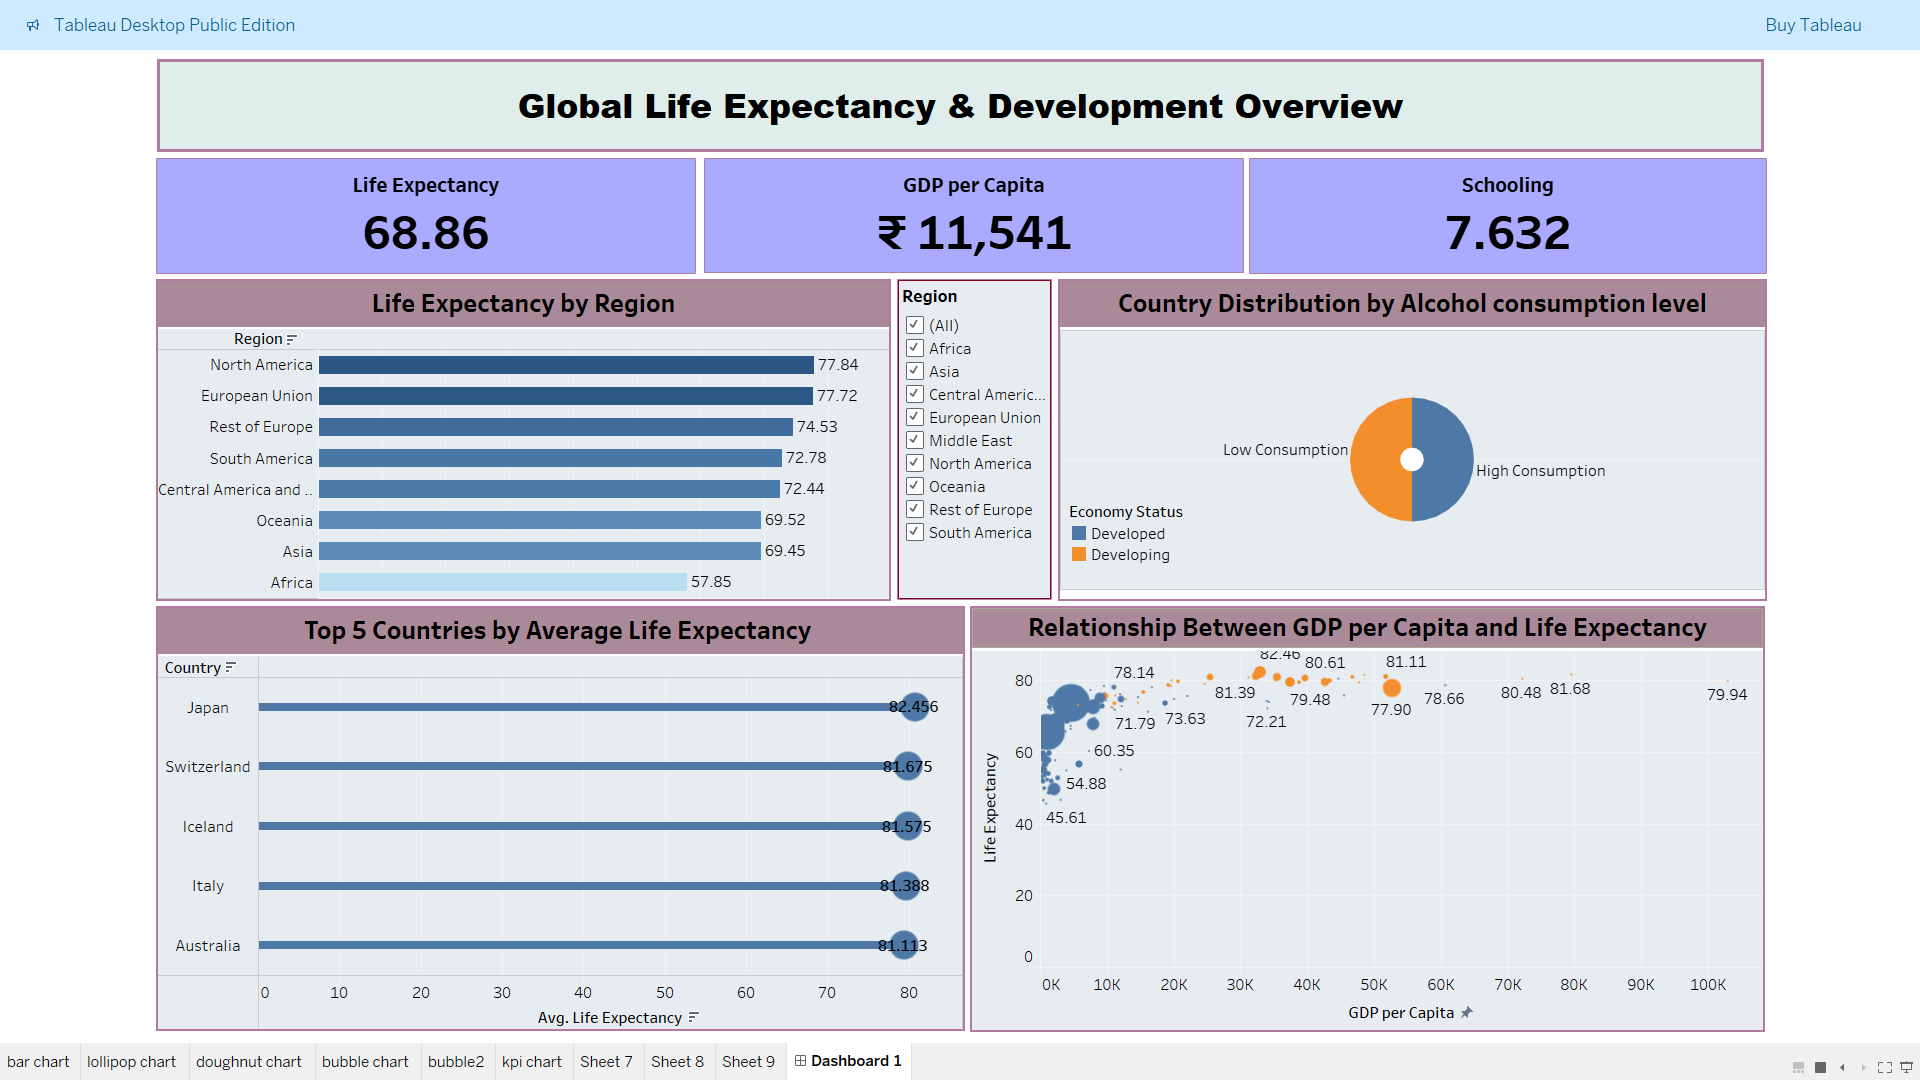

The dashboard page shown, as its layout file describes it:
{"tool":"tableau","page":{"name":"Dashboard 1","canvas":[1000,1000],"units":"permille","ordinal":0},"visuals":[{"type":"text","box":[4.3,8.7,992,93.5]},{"type":"worksheet","title":"Sheet 7","mark":"Automatic","box":[3.7,108.5,333.3,117.2]},{"type":"worksheet","title":"Sheet 8","mark":"Automatic","box":[342,108.5,333.3,116]},{"type":"worksheet","title":"Sheet 9","mark":"Automatic","box":[678.4,108.5,319.8,117.2]},{"type":"worksheet","title":"bar chart","mark":"Bar","rows":["Region"],"cols":["Life Expectancy"],"box":[3.7,230.7,453.7,324.2]},{"type":"filter","title":"bar chart","param":"[federated.0sxq2to1n1kvql112majw1vfb2ec].[none:Region:nk]","box":[461.1,230.7,95.7,322.9]},{"type":"worksheet","title":"doughnut chart","mark":"Pie","rows":["Calculation_1420322734886363144","Calculation_1420322734886363144"],"box":[560.5,230.7,437.7,324.2]},{"type":"legend","title":"bubble chart","param":"[federated.0sxq2to1n1kvql112majw1vfb2ec].[none:Economy Status:nk]","box":[567.3,453.9,95.7,86]},{"type":"worksheet","title":"lollipop chart","mark":"Automatic","rows":["Country"],"cols":["Life Expectancy","Life Expectancy"],"box":[3.7,559.9,499.4,427.7]},{"type":"worksheet","title":"bubble chart","mark":"Circle","rows":["Life Expectancy"],"cols":["GDP per Capita"],"box":[506.2,559.9,490.7,428.9]}]}

Visuals, with their boxes on the dashboard's canvas, which has no fixed pixel size, in thousandths of its width and height (x1, y1, x2, y2). These are canvas units, not pixel positions in the 1920x1080 screenshot, which may show the page scaled, cropped or inside an application window:
text: x1=4 y1=9 x2=996 y2=102
"Sheet 7" worksheet: x1=4 y1=108 x2=337 y2=226
"Sheet 8" worksheet: x1=342 y1=108 x2=675 y2=224
"Sheet 9" worksheet: x1=678 y1=108 x2=998 y2=226
"bar chart" worksheet (Bar marks): x1=4 y1=231 x2=457 y2=555
"bar chart" filter: x1=461 y1=231 x2=557 y2=554
"doughnut chart" worksheet (Pie marks): x1=560 y1=231 x2=998 y2=555
"bubble chart" legend: x1=567 y1=454 x2=663 y2=540
"lollipop chart" worksheet: x1=4 y1=560 x2=503 y2=988
"bubble chart" worksheet (Circle marks): x1=506 y1=560 x2=997 y2=989
